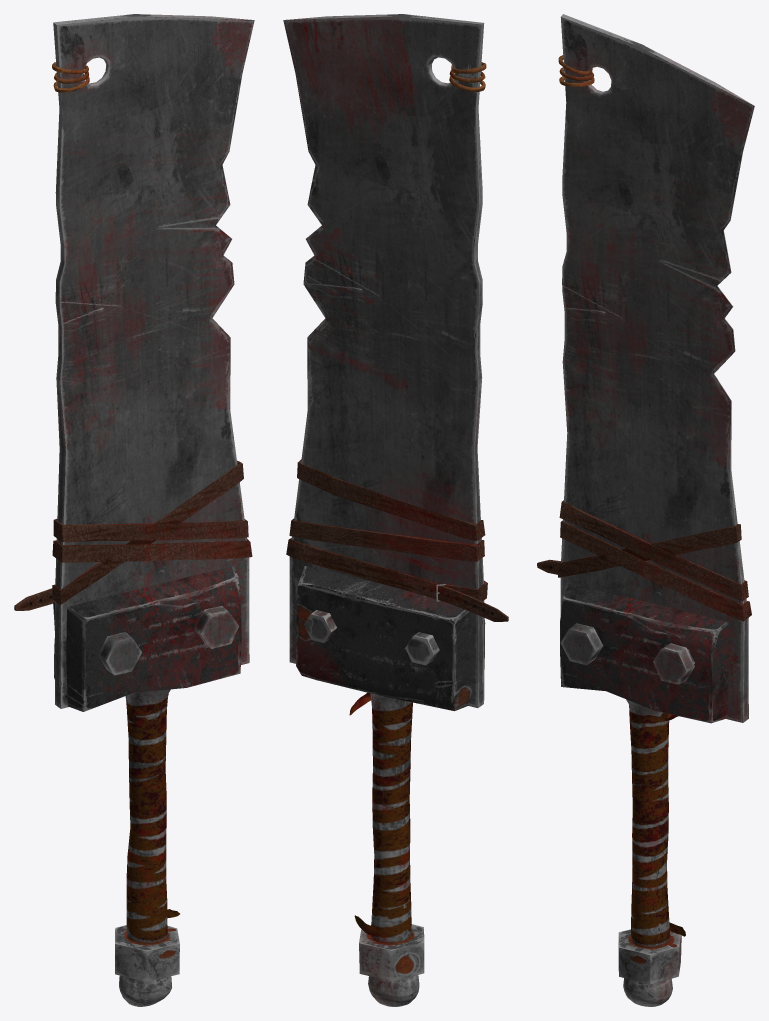
The model's file is Cleaver.fbx.
3 views of the same model, side by side, from view 1: azimuth 30°, elevation 25°; view 2: azimuth 150°, elevation 25°; view 3: azimuth 330°, elevation 25° (orthographic). The views are drawn at different scales.
Parts seen in each view (by area): view 1: Cleaver_01_low, Cleaver_08_low, Cleaver_05_low, Cleaver_12_low, Cleaver_15_low, Cleaver_10_low, Cleaver_09_low, Cleaver_14_low; view 2: Cleaver_01_low, Cleaver_11_low, Cleaver_05_low, Cleaver_12_low, Cleaver_15_low, Cleaver_14_low, Cleaver_09_low, Cleaver_10_low; view 3: Cleaver_01_low, Cleaver_08_low, Cleaver_05_low, Cleaver_12_low, Cleaver_15_low, Cleaver_10_low, Cleaver_09_low, Cleaver_14_low.
Boxes of the visible parts, bbox=[...] form: Cleaver_01_low: bbox=[53, 14, 254, 708]; Cleaver_08_low: bbox=[66, 566, 241, 711]; Cleaver_05_low: bbox=[14, 460, 252, 610]; Cleaver_12_low: bbox=[125, 689, 170, 943]; Cleaver_15_low: bbox=[115, 925, 179, 981]; Cleaver_10_low: bbox=[195, 606, 238, 648]; Cleaver_09_low: bbox=[98, 632, 141, 675]; Cleaver_14_low: bbox=[119, 975, 171, 1006]; Cleaver_01_low: bbox=[283, 14, 484, 707]; Cleaver_11_low: bbox=[295, 566, 472, 711]; Cleaver_05_low: bbox=[286, 459, 508, 621]; Cleaver_12_low: bbox=[370, 693, 412, 943]; Cleaver_15_low: bbox=[359, 924, 424, 981]; Cleaver_14_low: bbox=[368, 975, 419, 1006]; Cleaver_09_low: bbox=[405, 632, 439, 665]; Cleaver_10_low: bbox=[304, 610, 336, 643]; Cleaver_01_low: bbox=[560, 14, 754, 722]; Cleaver_08_low: bbox=[560, 583, 728, 723]; Cleaver_05_low: bbox=[537, 500, 751, 621]; Cleaver_12_low: bbox=[626, 699, 670, 948]; Cleaver_15_low: bbox=[618, 929, 681, 984]; Cleaver_10_low: bbox=[653, 643, 694, 684]; Cleaver_09_low: bbox=[560, 623, 603, 665]; Cleaver_14_low: bbox=[623, 978, 672, 1006].
Size of the model in its own units: 42.8 by 176 by 15.97.
